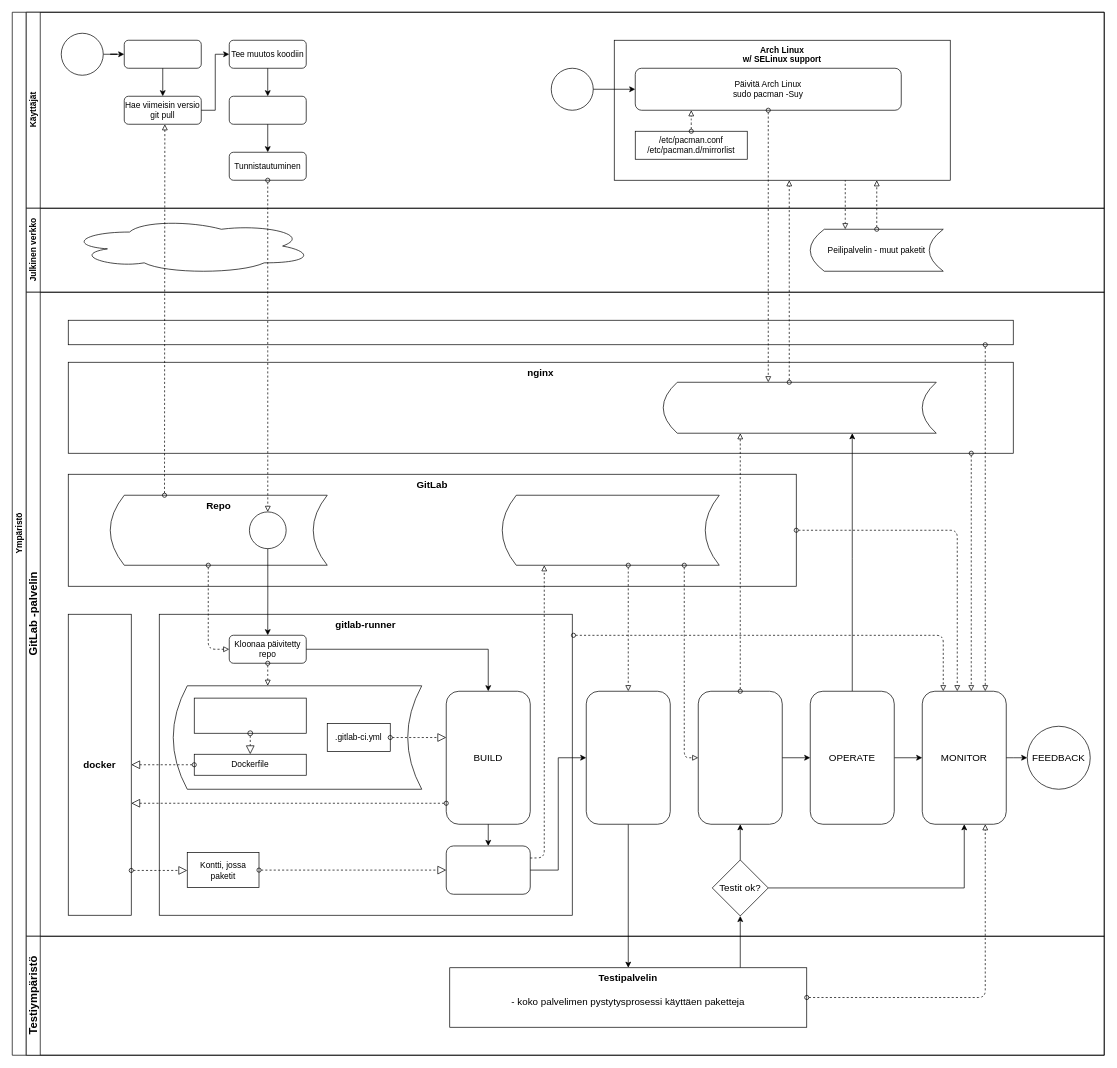
Some shapes in this 1117 by 1068 pixel diagram are drawn without their labels. The centre of each missing label's shape, as x and y in pixels:
Arch Linux package repository: selinux-testing: the point at 799,407
GitLab package registry: the point at 610,530
Internet: the point at 190,245
Kehittäjä: the point at 82,54
Kokoonpanoskriptit: recv_gpg_keys.sh build_and_install_all.sh: the point at 250,715
Käynnistä Kehitystyökalu IDE tms.: the point at 162,54
Käyttäjä: the point at 572,89
PACKAGE: the point at 488,869
palomuuri: the point at 540,332
Päivitys: the point at 267,530
Päivitä koodi git push: the point at 267,110
RELEASE: the point at 740,757
TEST: the point at 628,757
